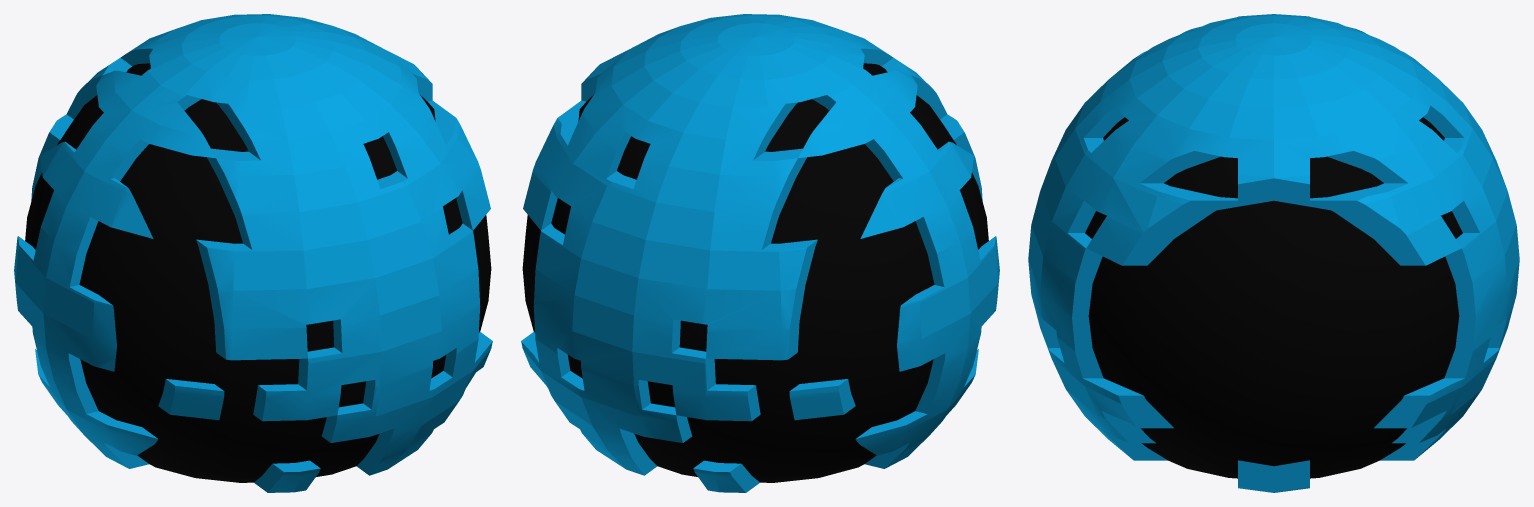
The model's file is br-m-bush_blueB.fbx.
3 views of the same model, side by side, from view 1: azimuth 30°, elevation 25°; view 2: azimuth 150°, elevation 25°; view 3: azimuth 270°, elevation 25° (orthographic).
Parts seen in each view (by area): view 1: blue, base; view 2: blue, base; view 3: blue, base.
Boxes of the visible parts, <box> form: blue: <box>14,14,492,492</box>; base: <box>25,63,491,482</box>; blue: <box>521,14,999,492</box>; base: <box>522,63,988,482</box>; blue: <box>1028,14,1519,492</box>; base: <box>1085,117,1462,478</box>.
Size of the model in its own units: 0.8373 by 0.7318 by 0.8568.
